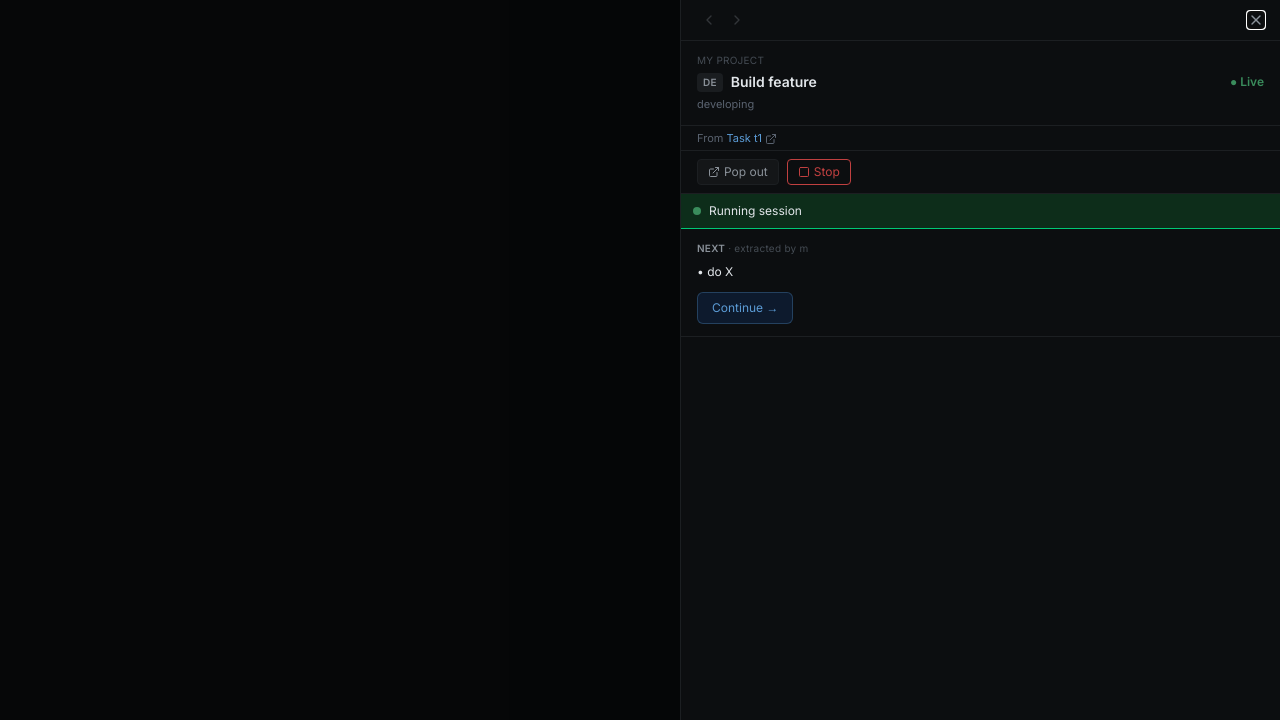
Test: NextActionsSection Continue button › renders error message when API returns non-OK
Click the button "Continue →" at (745, 308), box 697,292 -> 794,324
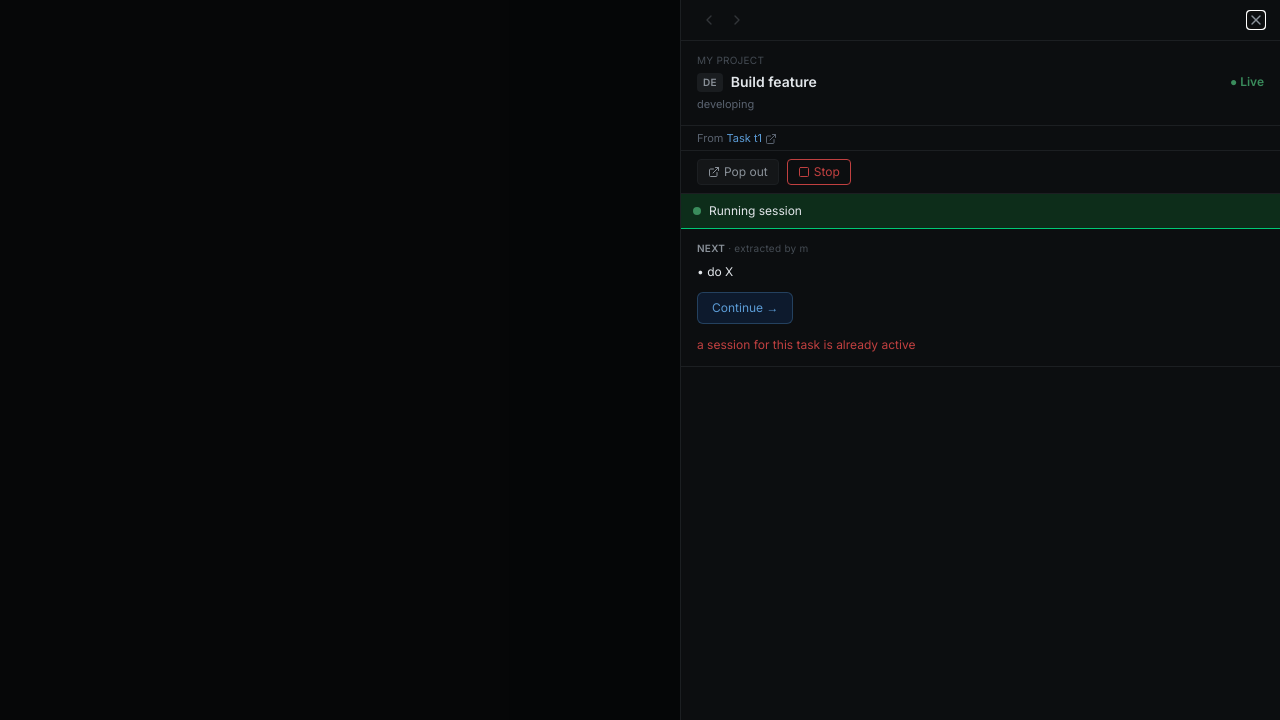
Result: the message shows "already active" at 697,337 -> 915,352
